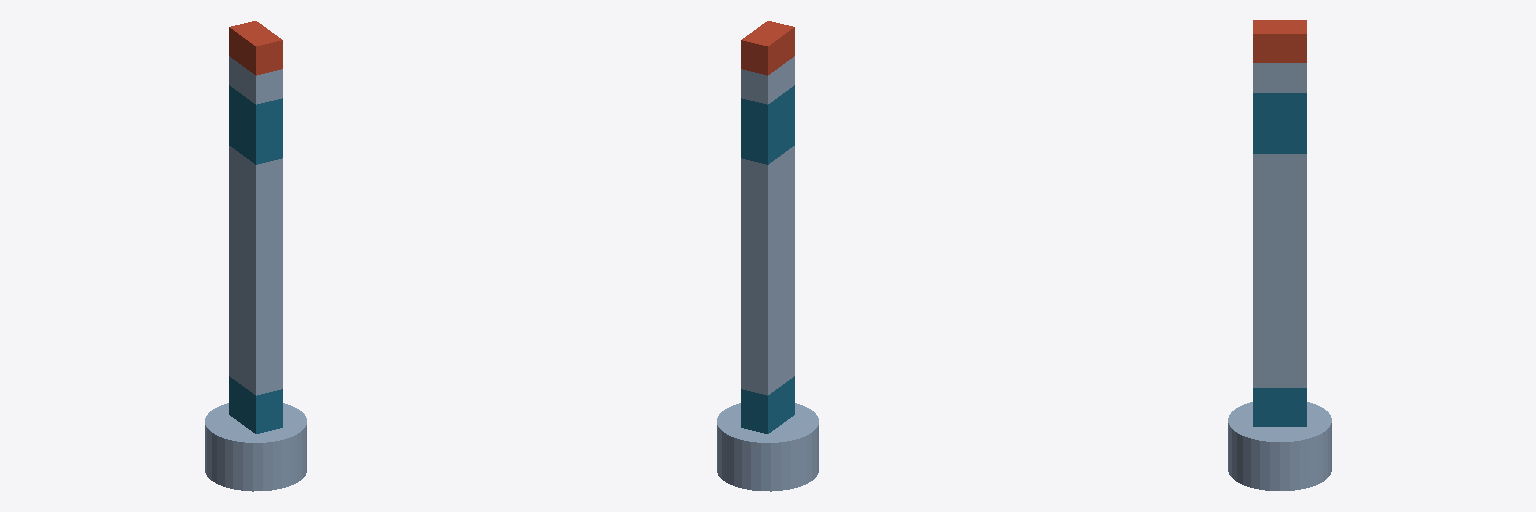
The robot description file, URDF, robot "arm450":
<?xml version="1.0"?>
<!-- ARM-450 : 6-DOF arm, 450 mm overall, L2 = L3 = 145 mm.
     Generated by generate_urdf.py — do not hand-edit. -->
<robot name="arm450">
  <material name="steel"><color rgba="0.62 0.70 0.79 1"/></material>
  <material name="accent"><color rgba="0.18 0.49 0.60 1"/></material>
  <material name="servo"><color rgba="0.78 0.34 0.24 1"/></material>
  <link name="world"/>
  <joint name="world_to_base" type="fixed">
    <parent link="world"/><child link="base_link"/>
    <origin rpy="0 0 0" xyz="0 0 0"/>
  </joint>
  <link name="base_link">
    <inertial>
      <origin rpy="0 0 0" xyz="0 0 0.025000"/>
      <mass value="0.1277"/>
      <inertia ixx="0.00010012" ixy="0" ixz="0" iyy="0.00010012" iyz="0" izz="0.00014705"/>
    </inertial>
    <visual>
      <origin rpy="0 0 0" xyz="0 0 0.025000"/>
      <geometry><cylinder radius="0.04800" length="0.05000"/></geometry>
      <material name="steel"/>
    </visual>
    <collision>
      <origin rpy="0 0 0" xyz="0 0 0.025000"/>
      <geometry><cylinder radius="0.04800" length="0.05000"/></geometry>
    </collision>
  </link>
  <joint name="joint1" type="revolute">
    <parent link="base_link"/>
    <child link="link1"/>
    <origin rpy="0 0 0" xyz="0 0 0.050000"/>
    <axis xyz="0 0 1"/>
    <limit effort="2.94" velocity="4.6"
           lower="-2.879793" upper="2.879793"/>
    <dynamics damping="0.05" friction="0.02"/>
  </joint>
  <link name="link1">
    <inertial>
      <origin rpy="0 0 0" xyz="0 0 0.020000"/>
      <mass value="0.2207"/>
      <inertia ixx="0.00007540" ixy="0" ixz="0" iyy="0.00004489" iyz="0" izz="0.00006144"/>
    </inertial>
    <visual>
      <origin rpy="0 0 0" xyz="0 0 0.020000"/>
      <geometry><box size="0.02900 0.05000 0.04000"/></geometry>
      <material name="accent"/>
    </visual>
    <collision>
      <origin rpy="0 0 0" xyz="0 0 0.020000"/>
      <geometry><box size="0.02900 0.05000 0.04000"/></geometry>
    </collision>
  </link>
  <joint name="joint2" type="revolute">
    <parent link="link1"/>
    <child link="link2"/>
    <origin rpy="0 0 0" xyz="0 0 0.040000"/>
    <axis xyz="0 1 0"/>
    <limit effort="4.9" velocity="3.7"
           lower="-2.007129" upper="2.007129"/>
    <dynamics damping="0.05" friction="0.02"/>
  </joint>
  <link name="link2">
    <inertial>
      <origin rpy="0 0 0" xyz="0 0 0.059500"/>
      <mass value="0.2688"/>
      <inertia ixx="0.00037324" ixy="0" ixz="0" iyy="0.00033608" iyz="0" izz="0.00007485"/>
    </inertial>
    <visual>
      <origin rpy="0 0 0" xyz="0 0 0.059500"/>
      <geometry><box size="0.02900 0.05000 0.11900"/></geometry>
      <material name="steel"/>
    </visual>
    <collision>
      <origin rpy="0 0 0" xyz="0 0 0.059500"/>
      <geometry><box size="0.02900 0.05000 0.11900"/></geometry>
    </collision>
  </link>
  <joint name="joint3" type="revolute">
    <parent link="link2"/>
    <child link="link3"/>
    <origin rpy="0 0 0" xyz="0 0 0.119000"/>
    <axis xyz="0 1 0"/>
    <limit effort="2.94" velocity="4.6"
           lower="-2.617994" upper="2.617994"/>
    <dynamics damping="0.05" friction="0.02"/>
  </joint>
  <link name="link3">
    <inertial>
      <origin rpy="0 0 0" xyz="0 0 0.059500"/>
      <mass value="0.2688"/>
      <inertia ixx="0.00037324" ixy="0" ixz="0" iyy="0.00033608" iyz="0" izz="0.00007485"/>
    </inertial>
    <visual>
      <origin rpy="0 0 0" xyz="0 0 0.059500"/>
      <geometry><box size="0.02900 0.05000 0.11900"/></geometry>
      <material name="steel"/>
    </visual>
    <collision>
      <origin rpy="0 0 0" xyz="0 0 0.059500"/>
      <geometry><box size="0.02900 0.05000 0.11900"/></geometry>
    </collision>
  </link>
  <joint name="joint4" type="revolute">
    <parent link="link3"/>
    <child link="link4"/>
    <origin rpy="0 0 0" xyz="0 0 0.119000"/>
    <axis xyz="0 0 1"/>
    <limit effort="2.94" velocity="4.6"
           lower="-2.879793" upper="2.879793"/>
    <dynamics damping="0.05" friction="0.02"/>
  </joint>
  <link name="link4">
    <inertial>
      <origin rpy="0 0 0" xyz="0 0 0.031000"/>
      <mass value="0.1636"/>
      <inertia ixx="0.00008650" ixy="0" ixz="0" iyy="0.00006388" iyz="0" izz="0.00004556"/>
    </inertial>
    <visual>
      <origin rpy="0 0 0" xyz="0 0 0.031000"/>
      <geometry><box size="0.02900 0.05000 0.06200"/></geometry>
      <material name="accent"/>
    </visual>
    <collision>
      <origin rpy="0 0 0" xyz="0 0 0.031000"/>
      <geometry><box size="0.02900 0.05000 0.06200"/></geometry>
    </collision>
  </link>
  <joint name="joint5" type="revolute">
    <parent link="link4"/>
    <child link="link5"/>
    <origin rpy="0 0 0" xyz="0 0 0.062000"/>
    <axis xyz="0 1 0"/>
    <limit effort="2.94" velocity="4.6"
           lower="-1.588250" upper="0.855211"/>
    <dynamics damping="0.05" friction="0.02"/>
  </joint>
  <link name="link5">
    <inertial>
      <origin rpy="0 0 0" xyz="0 0 0.015000"/>
      <mass value="0.1564"/>
      <inertia ixx="0.00004433" ixy="0" ixz="0" iyy="0.00002270" iyz="0" izz="0.00004356"/>
    </inertial>
    <visual>
      <origin rpy="0 0 0" xyz="0 0 0.015000"/>
      <geometry><box size="0.02900 0.05000 0.03000"/></geometry>
      <material name="steel"/>
    </visual>
    <collision>
      <origin rpy="0 0 0" xyz="0 0 0.015000"/>
      <geometry><box size="0.02900 0.05000 0.03000"/></geometry>
    </collision>
  </link>
  <joint name="joint6" type="revolute">
    <parent link="link5"/>
    <child link="link6"/>
    <origin rpy="0 0 0" xyz="0 0 0.030000"/>
    <axis xyz="0 0 1"/>
    <limit effort="2.94" velocity="4.6"
           lower="-3.054326" upper="3.054326"/>
    <dynamics damping="0.05" friction="0.02"/>
  </joint>
  <link name="link6">
    <inertial>
      <origin rpy="0 0 0" xyz="0 0 0.015000"/>
      <mass value="0.1587"/>
      <inertia ixx="0.00004497" ixy="0" ixz="0" iyy="0.00002303" iyz="0" izz="0.00004419"/>
    </inertial>
    <visual>
      <origin rpy="0 0 0" xyz="0 0 0.015000"/>
      <geometry><box size="0.02900 0.05000 0.03000"/></geometry>
      <material name="servo"/>
    </visual>
    <collision>
      <origin rpy="0 0 0" xyz="0 0 0.015000"/>
      <geometry><box size="0.02900 0.05000 0.03000"/></geometry>
    </collision>
  </link>
  <joint name="link6_to_tcp" type="fixed">
    <parent link="link6"/><child link="tcp"/>
    <origin rpy="0 0 0" xyz="0 0 0.030000"/>
  </joint>
  <link name="tcp"/>
</robot>

--- Facts derived from the render (not from the file) ---
Views: 3 orthographic renders of the robot side by side, from view 1: azimuth 30°, elevation 25°; view 2: azimuth 150°, elevation 25°; view 3: azimuth 270°, elevation 25°.
Model arm450 with 9 links and 8 joints (6 revolute, 2 fixed), rooted at world, posed all joints at 0.
Links seen in each view (by area): view 1: base_link, link2, link3, link4, link6, link1, link5; view 2: base_link, link2, link3, link4, link6, link1, link5; view 3: base_link, link2, link3, link4, link6, link1, link5.
Boxes of the visible links, x1,y1,x2,y2 form: base_link: [205, 403, 306, 491]; link2: [229, 261, 282, 395]; link3: [229, 146, 282, 279]; link4: [229, 85, 282, 164]; link6: [229, 21, 282, 75]; link1: [229, 376, 282, 433]; link5: [229, 56, 282, 104]; base_link: [717, 403, 818, 491]; link2: [741, 261, 794, 395]; link3: [741, 146, 794, 279]; link4: [741, 85, 794, 164]; link6: [741, 21, 794, 75]; link1: [741, 376, 794, 433]; link5: [741, 56, 794, 104]; base_link: [1228, 402, 1331, 490]; link2: [1253, 271, 1306, 387]; link3: [1253, 154, 1306, 270]; link4: [1253, 93, 1306, 153]; link6: [1253, 20, 1306, 62]; link1: [1253, 388, 1306, 426]; link5: [1253, 63, 1306, 92].
Size in the robot's own frame: 0.096 by 0.096 by 0.45 metres.
Geometry: primitives only (box / cylinder / sphere), no mesh files.
